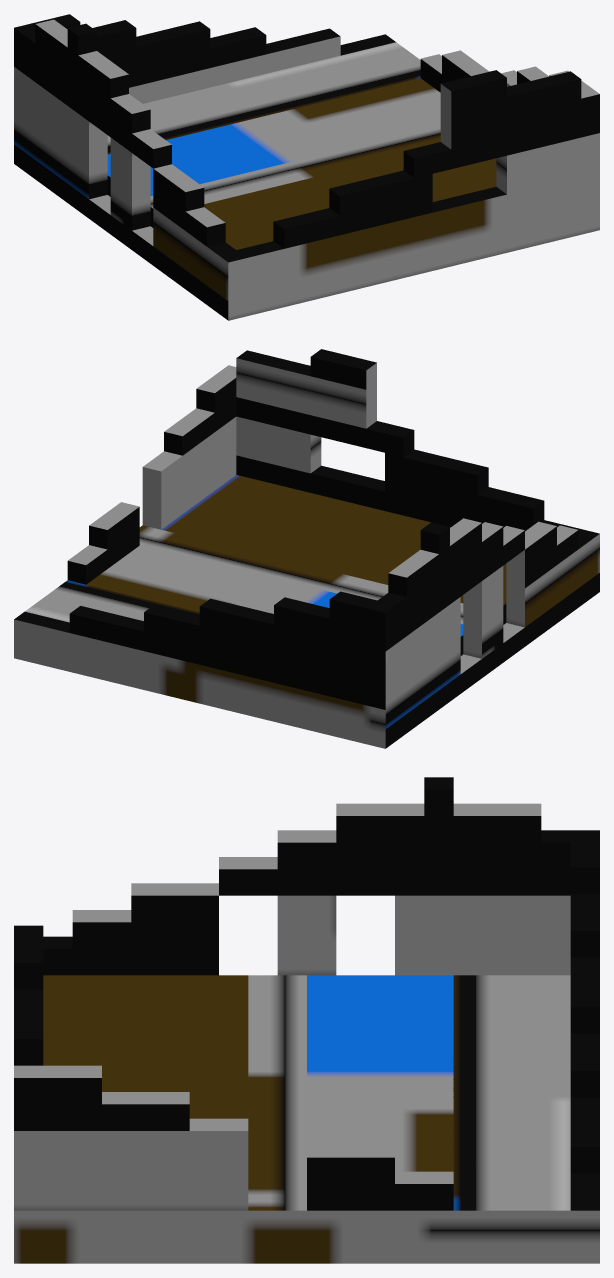
The model's file is Building.fbx.
3 renders of one model, top to bottom at view 1: azimuth 30°, elevation 25°; view 2: azimuth 150°, elevation 25°; view 3: azimuth 270°, elevation 25°, orthographic. The views are drawn at different scales.
Visible parts, largest first — view 1: Building; view 2: Building; view 3: Building.
Boxes of the visible parts, box(x1,y1,x2,y2) form: Building: box(14, 14, 599, 320); Building: box(14, 349, 599, 748); Building: box(14, 777, 599, 1263).
Size of the model in its own units: 20 by 9 by 20.
Materials: 1 (1 with a texture image).
